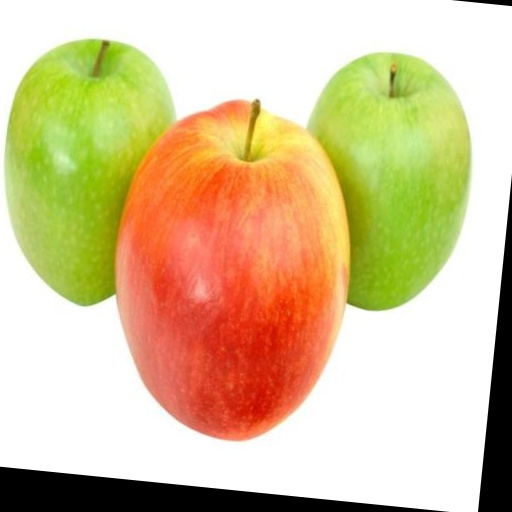fruit: (116, 101, 349, 440), (5, 39, 175, 304), (309, 53, 471, 309)
